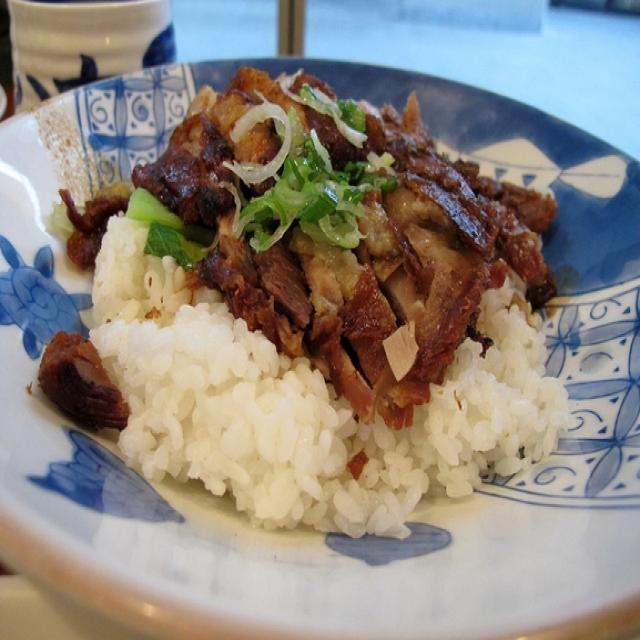米饭主食: (51, 57, 593, 584)
